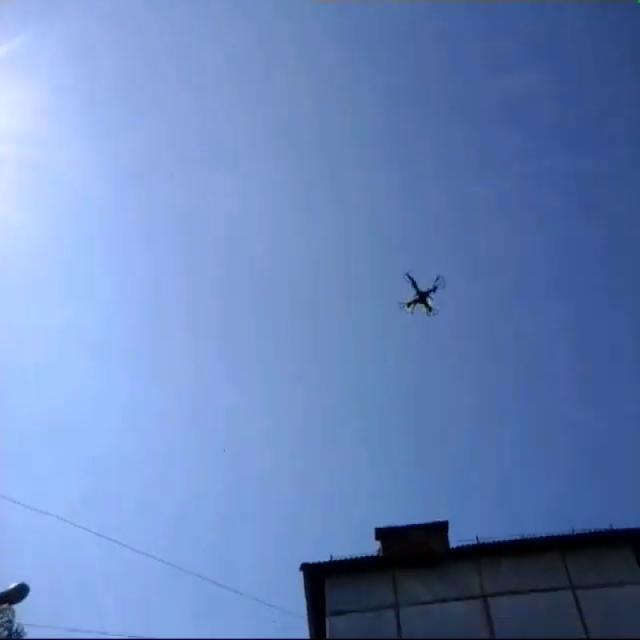Drons: (390, 262, 450, 322)
